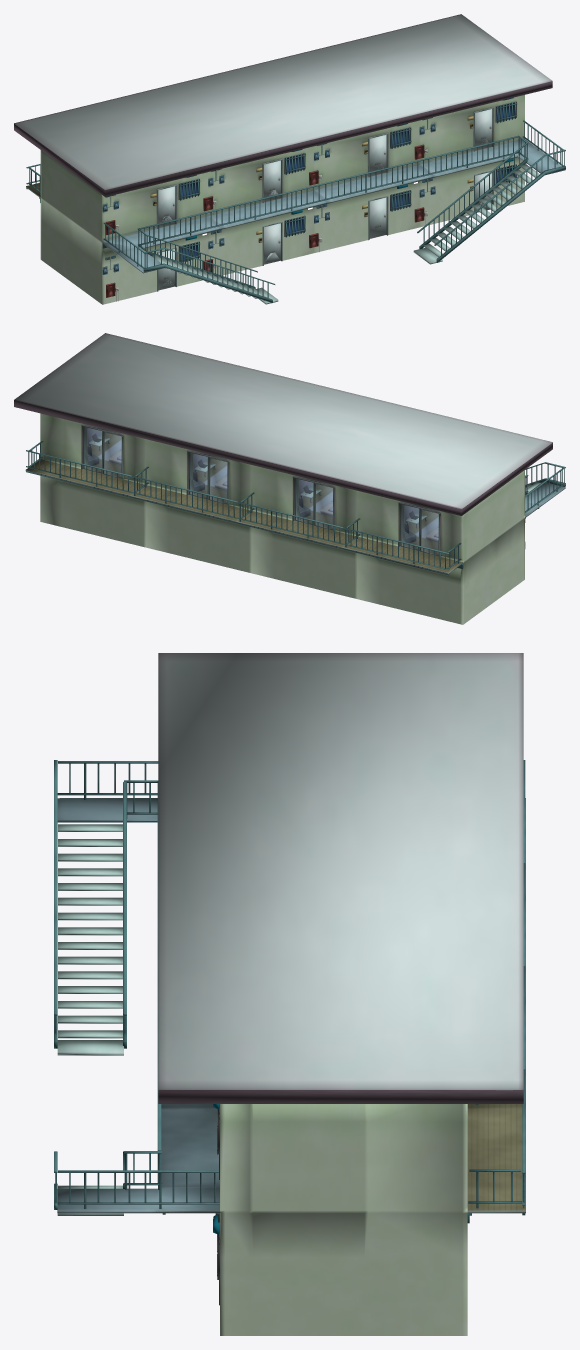
Rendered from dormitory.gltf.
3 views of the same model, one above another, from view 1: azimuth 30°, elevation 25°; view 2: azimuth 150°, elevation 25°; view 3: azimuth 270°, elevation 25° (orthographic). The views are drawn at different scales.
Parts seen in each view (by area): view 1: desirefx.me_002; view 2: desirefx.me_002, desirefx.me_003; view 3: desirefx.me_002.
Part boxes in pixels (bbox=[...]): desirefx.me_002: bbox=[14, 14, 565, 304]; desirefx.me_002: bbox=[14, 333, 565, 624]; desirefx.me_003: bbox=[84, 427, 438, 554]; desirefx.me_002: bbox=[54, 653, 525, 1335].
Size of the model in its own units: 3.17 by 0.8757 by 1.45.
Materials: 4 (2 with a texture image).
